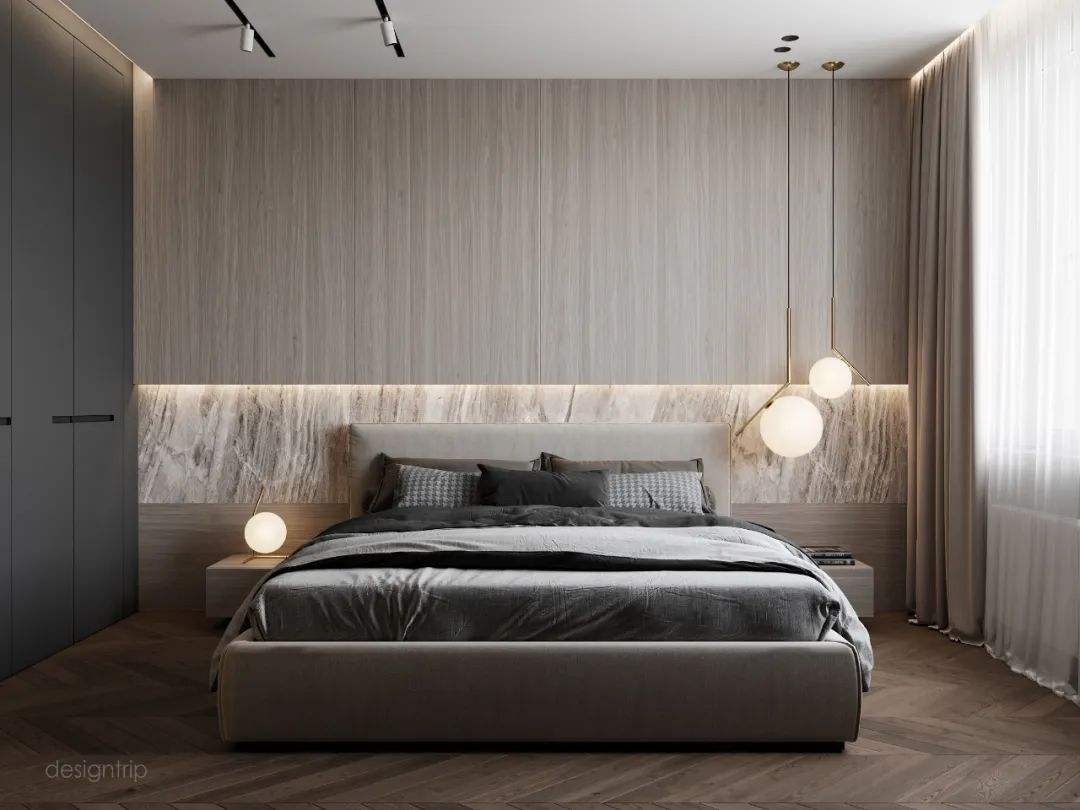床: (217, 510, 874, 778)
枕头: (364, 450, 720, 533)
灯: (755, 385, 835, 475), (221, 0, 283, 62), (369, 0, 415, 64), (812, 354, 863, 407), (241, 512, 287, 564)
